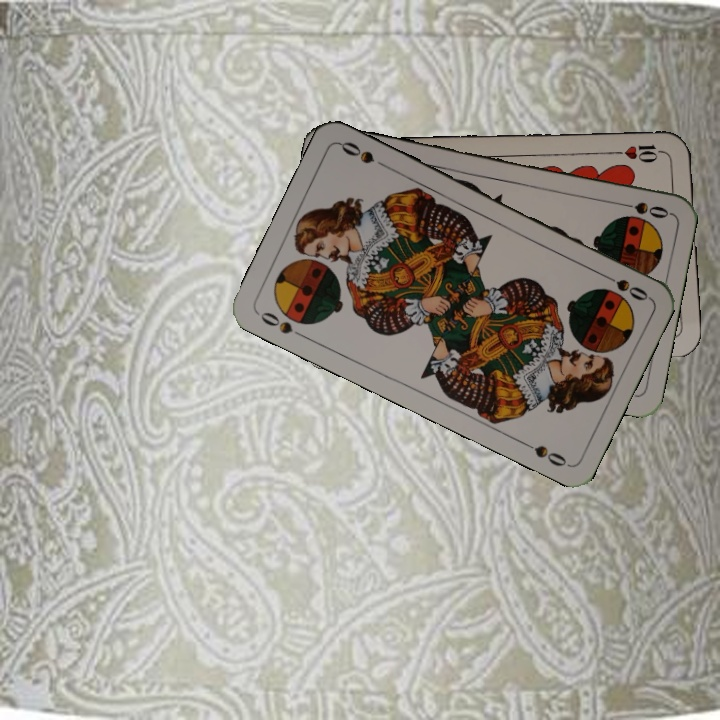H10: (609, 141, 669, 164)
SO: (596, 268, 651, 304), (254, 307, 309, 342), (613, 197, 672, 222)
